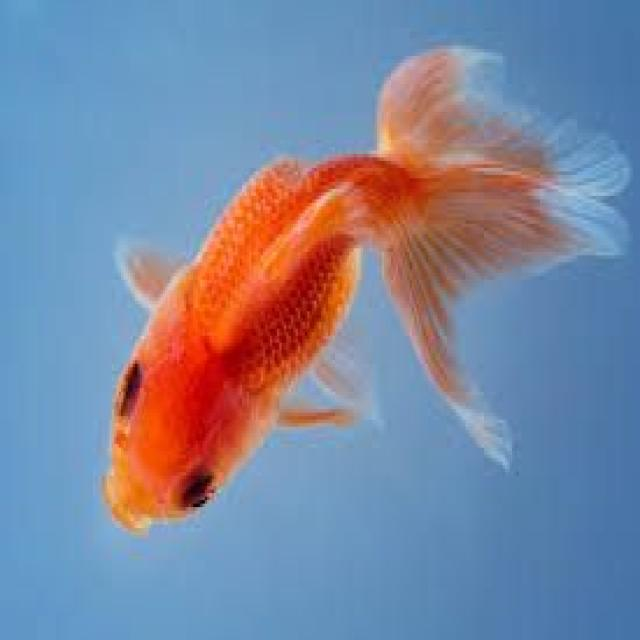Gold-Fish: (68, 18, 632, 590)
